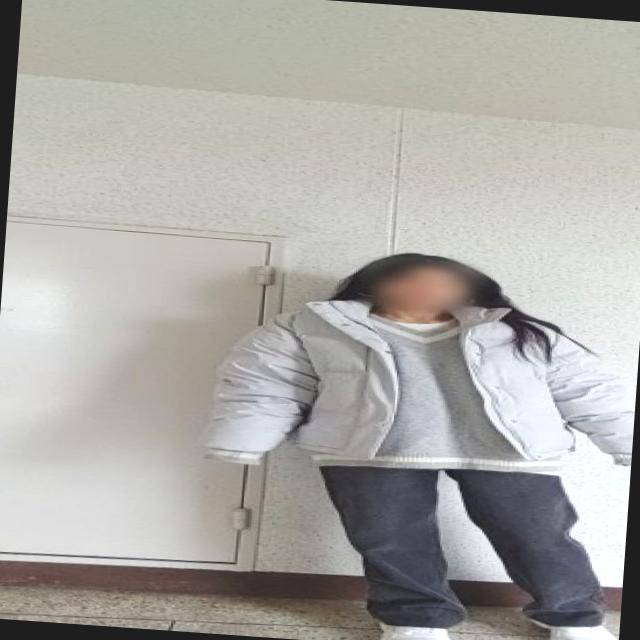denimpants: (306, 456, 616, 639)
padding: (195, 282, 640, 490)
